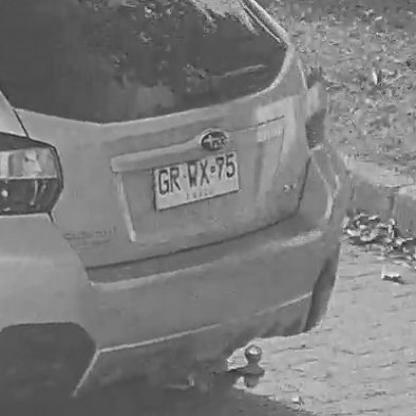Patente: (152, 148, 247, 214)
